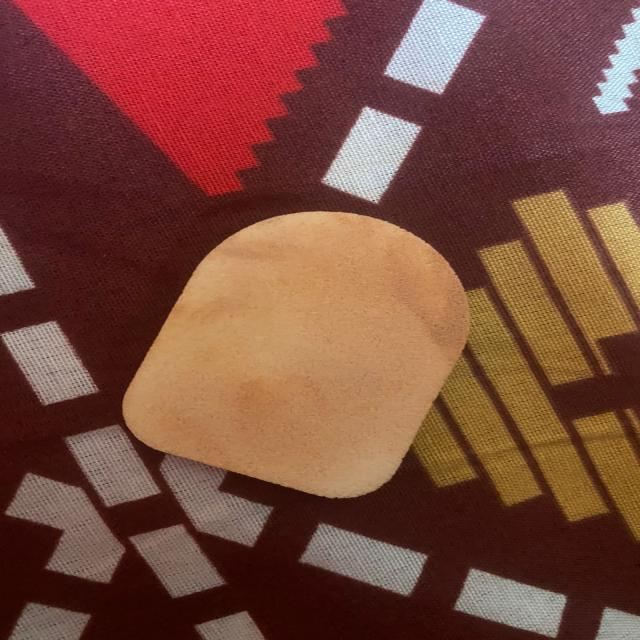beauty blender: (125, 214, 455, 495)
